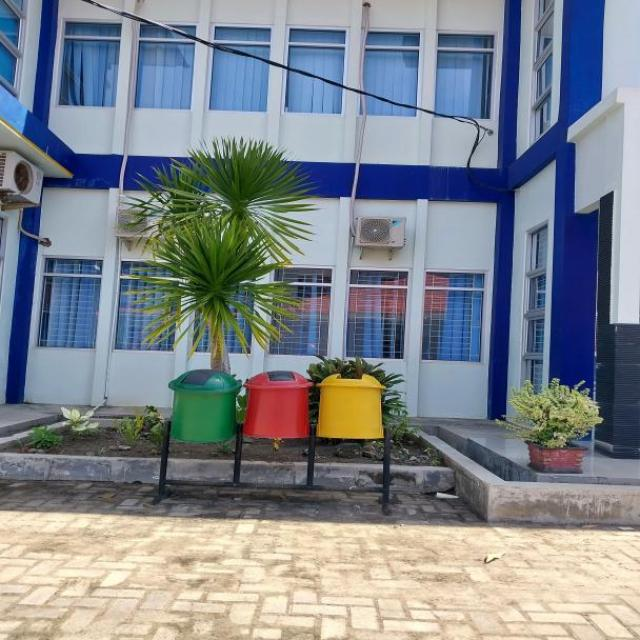dustbin ahead at: (157, 364, 388, 449)
plant ahead at: (508, 376, 603, 477)
